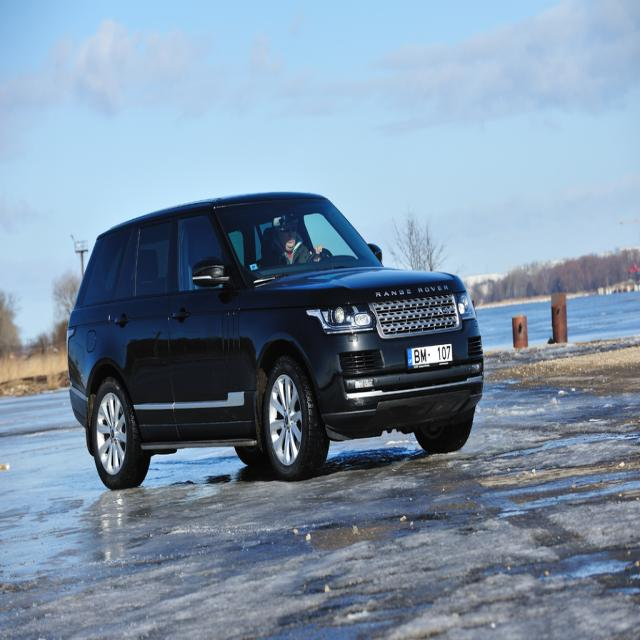car: (67, 189, 485, 490)
